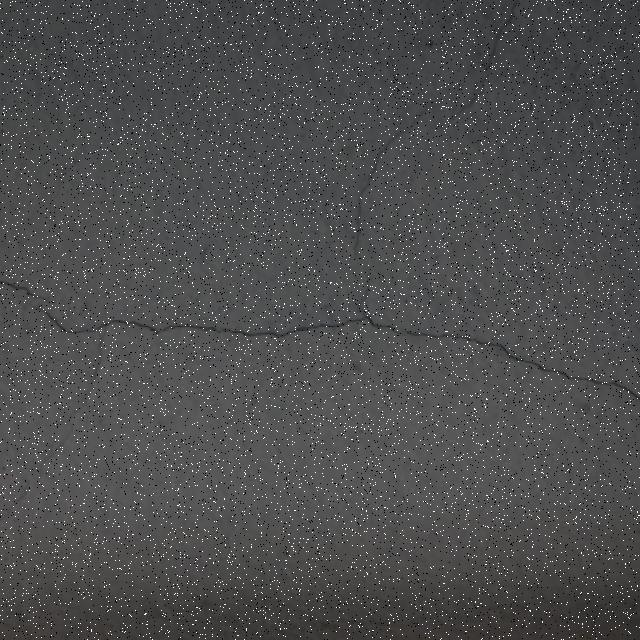minor crack: (2, 468, 638, 635), (8, 265, 640, 422), (355, 309, 500, 349), (22, 310, 199, 338), (178, 316, 374, 338), (484, 340, 587, 380), (2, 274, 69, 318), (587, 370, 639, 404)
moderate crack: (10, 402, 94, 502), (347, 131, 398, 252)
